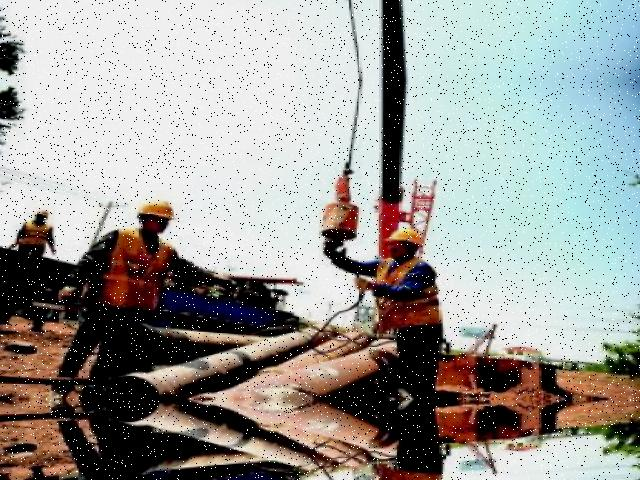Helmet: (383, 222, 432, 253), (136, 194, 180, 225)
